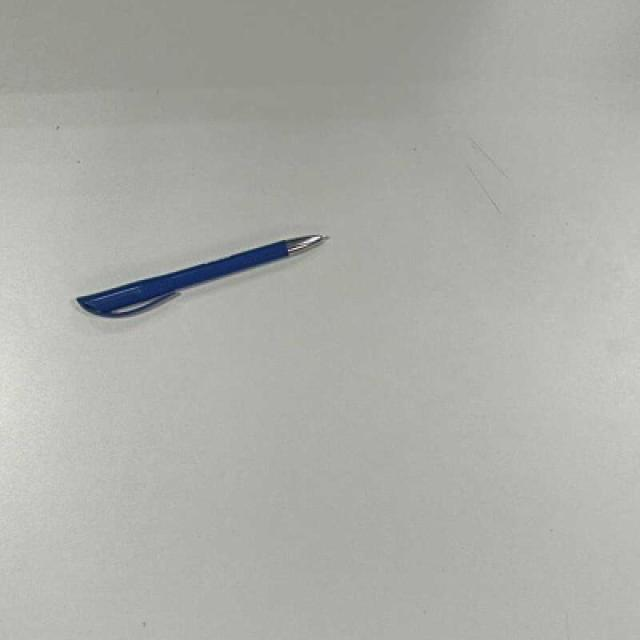caneta: (77, 229, 335, 329)
